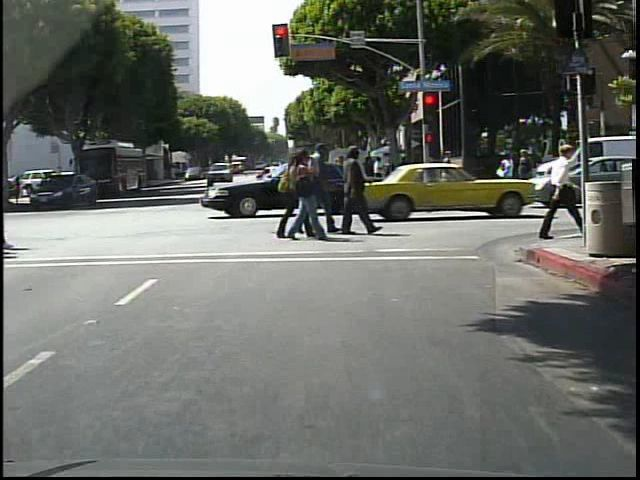person: (531, 140, 577, 246)
